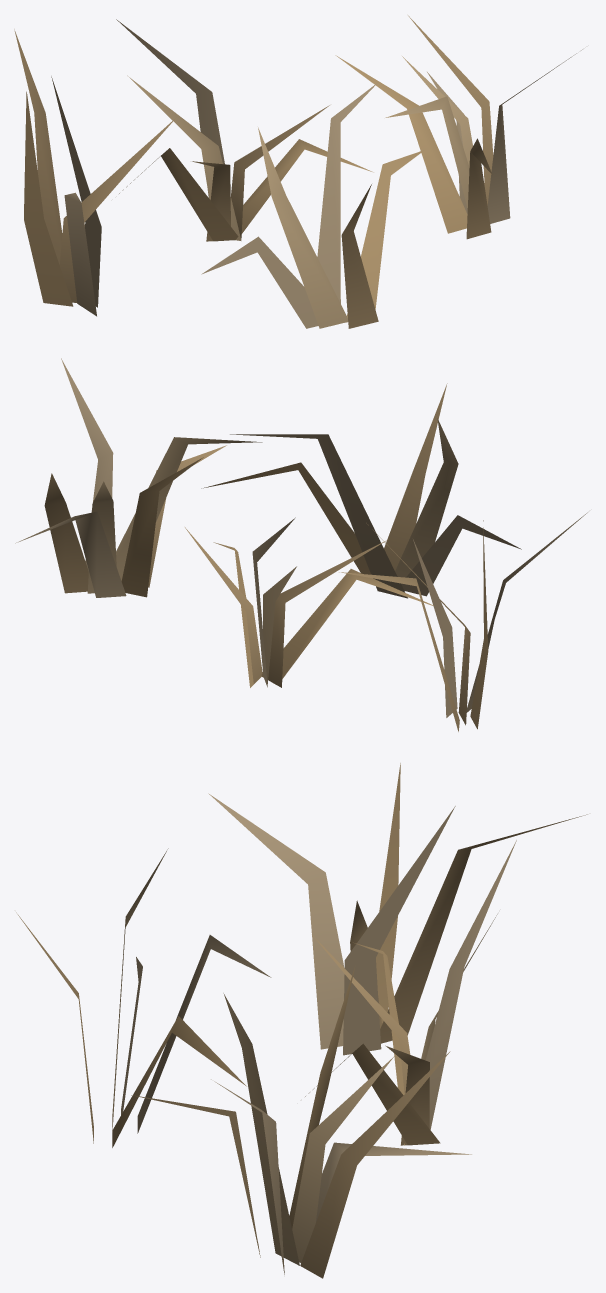
The model's file is Grass_g_TwoS_06.fbx.
The picture shows the model from 3 angles, top to bottom: view 1: azimuth 30°, elevation 25°; view 2: azimuth 150°, elevation 25°; view 3: azimuth 270°, elevation 25°; orthographic projection. The views are drawn at different scales.
Parts seen in each view (by area): view 1: Grass_g_TwoS_06; view 2: Grass_g_TwoS_06; view 3: Grass_g_TwoS_06.
Part boxes in pixels (box(x1,y1,x2,y2)): Grass_g_TwoS_06: box(14, 15, 582, 328); Grass_g_TwoS_06: box(15, 358, 587, 731); Grass_g_TwoS_06: box(16, 763, 587, 1278).
Size of the model in its own units: 129 by 51.88 by 101.
